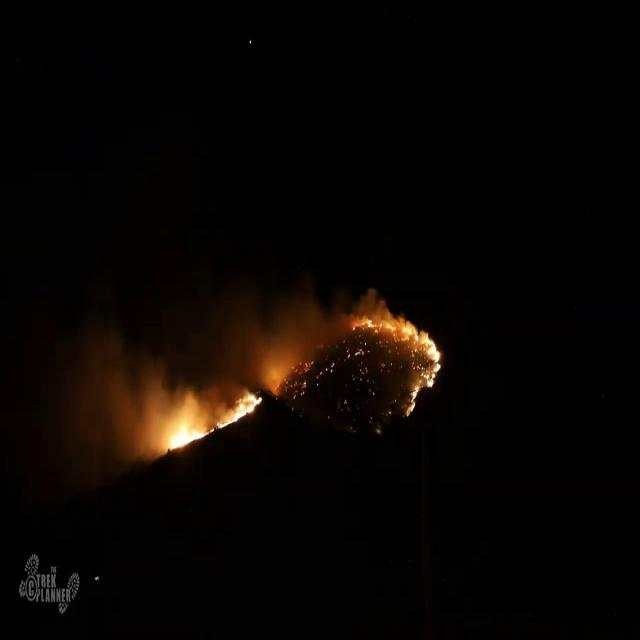Fire: (357, 311, 441, 415), (167, 390, 263, 451)
